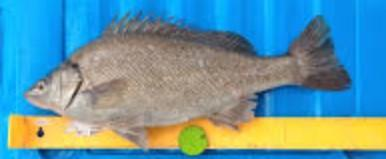Silver Perch: (22, 8, 352, 154)
